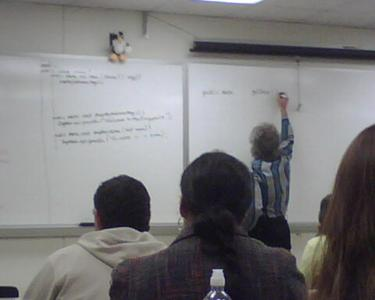person: (248, 92, 296, 252)
